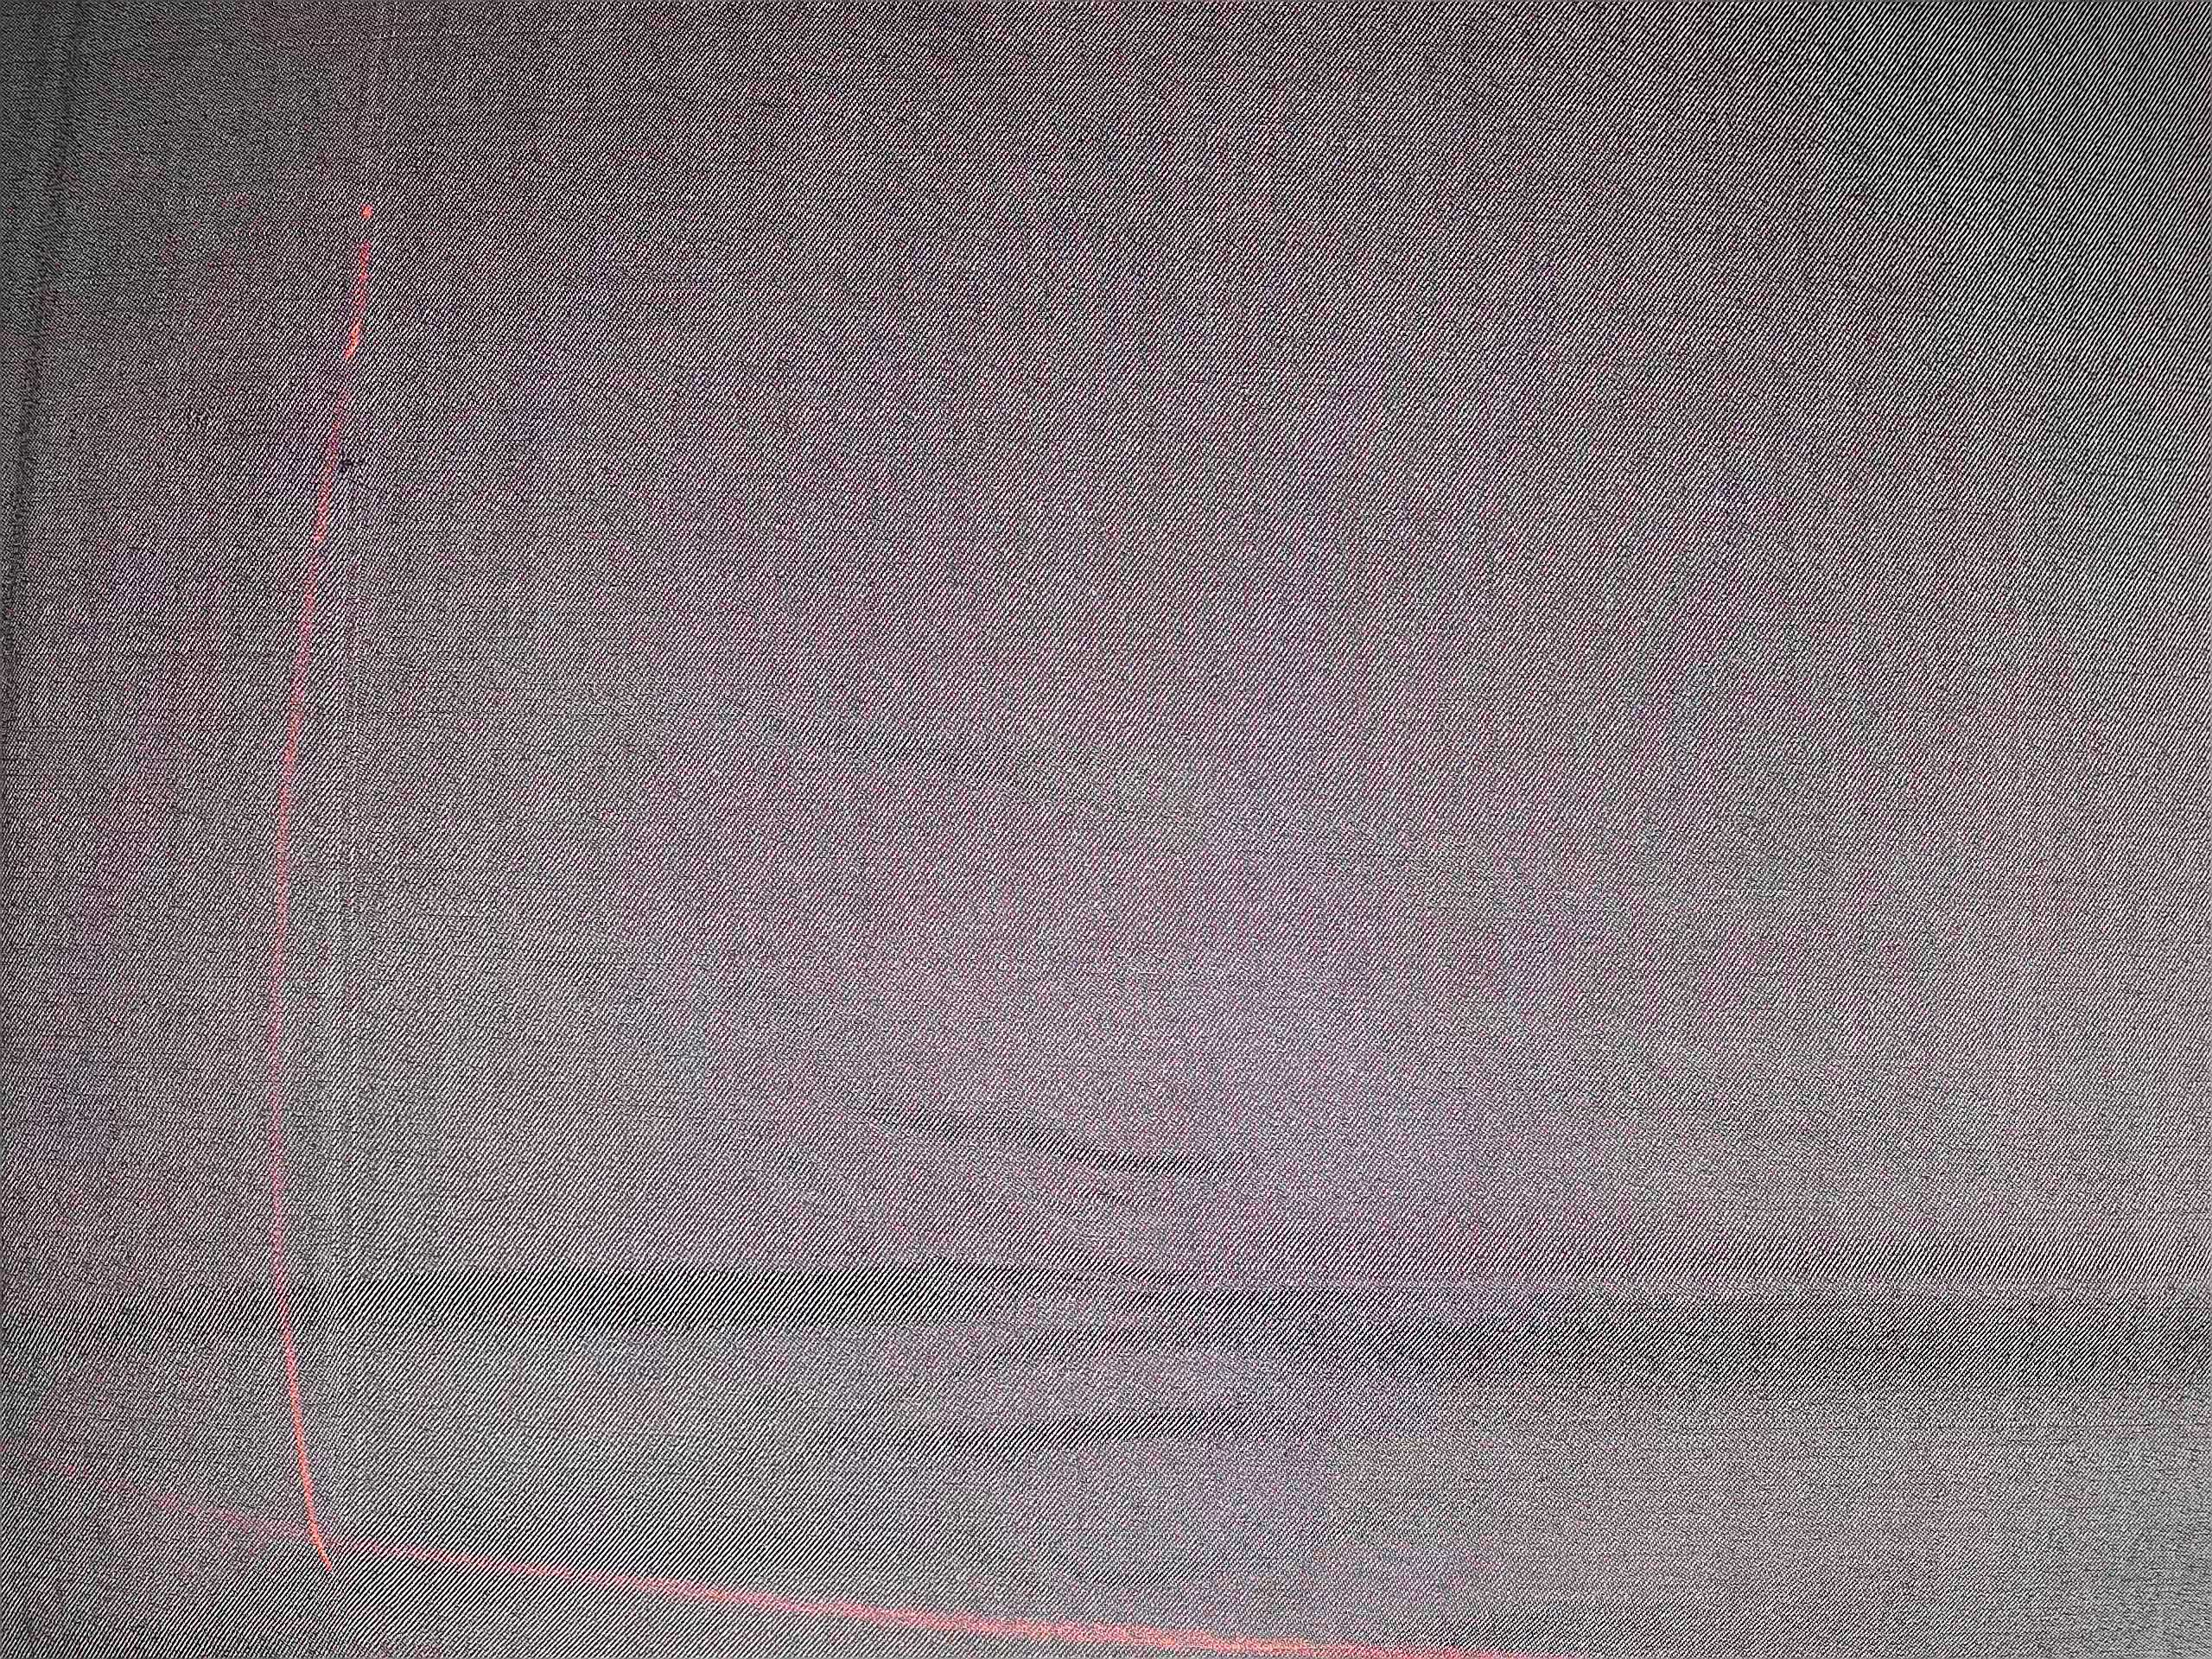hanging-warp: (315, 9, 402, 1561)
